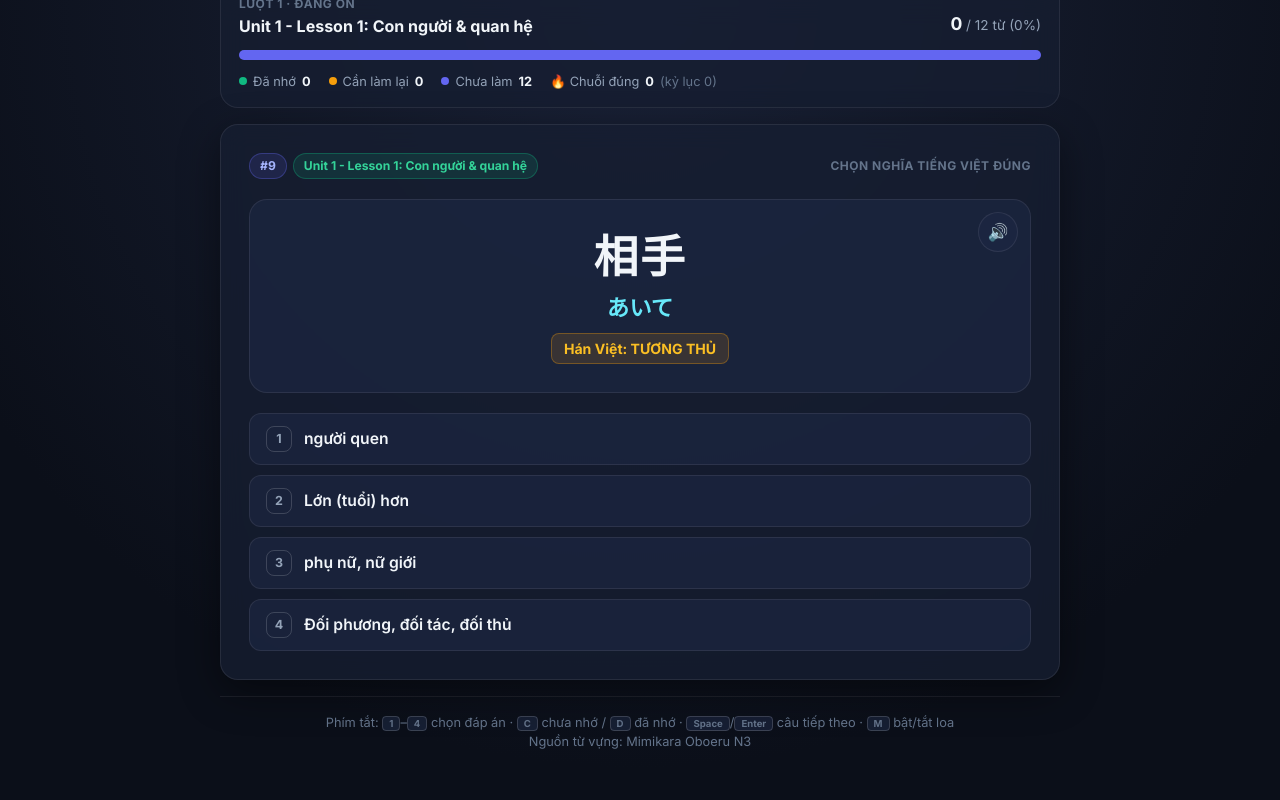
Scenario: Mimikara Oboeru N3 – vocabulary practice › counts the current question as pending until it is answered correctly
(page scrolled)
Click the button with class "option" showing "4 Đối phương, đối tác, đối thủ".
click(408, 625)  # box [249, 599, 1031, 651]
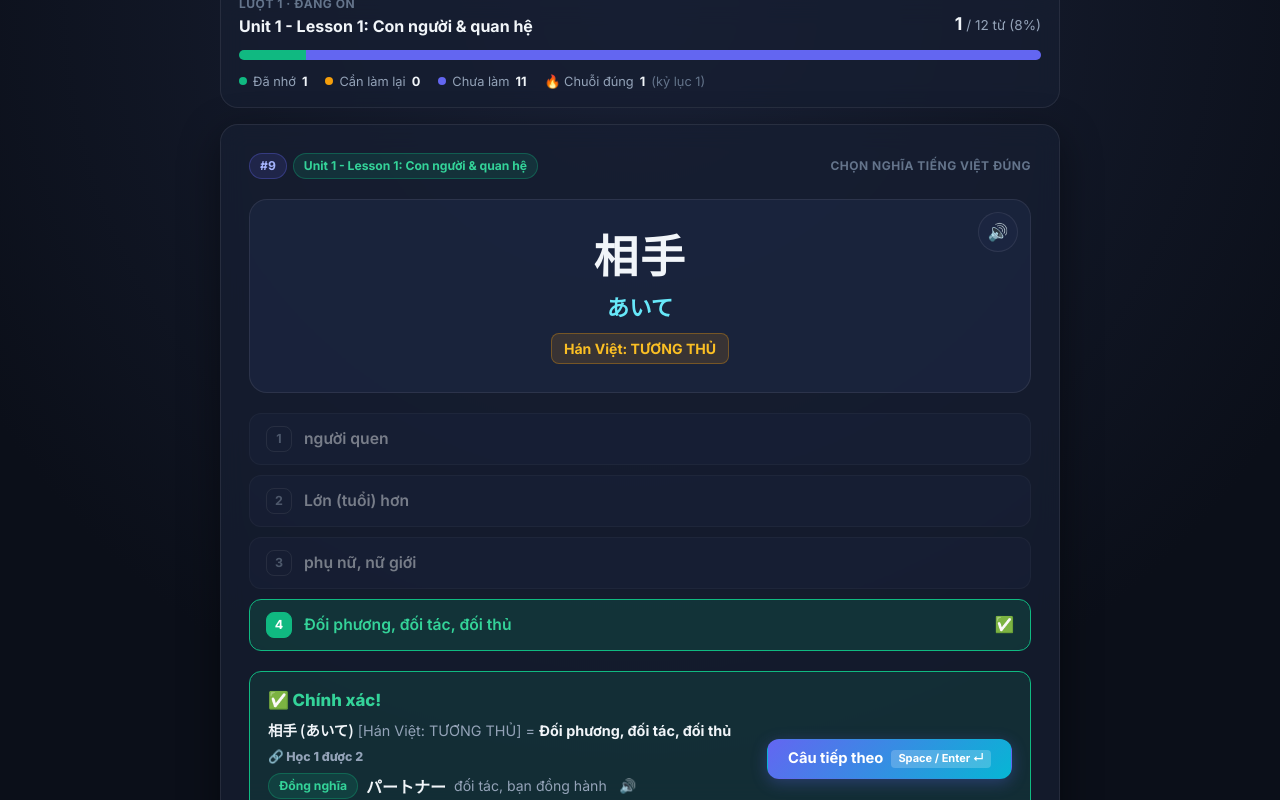
Expected: the element showing "1 / 12 từ (8%)" is shown, [955, 11, 1041, 38]
